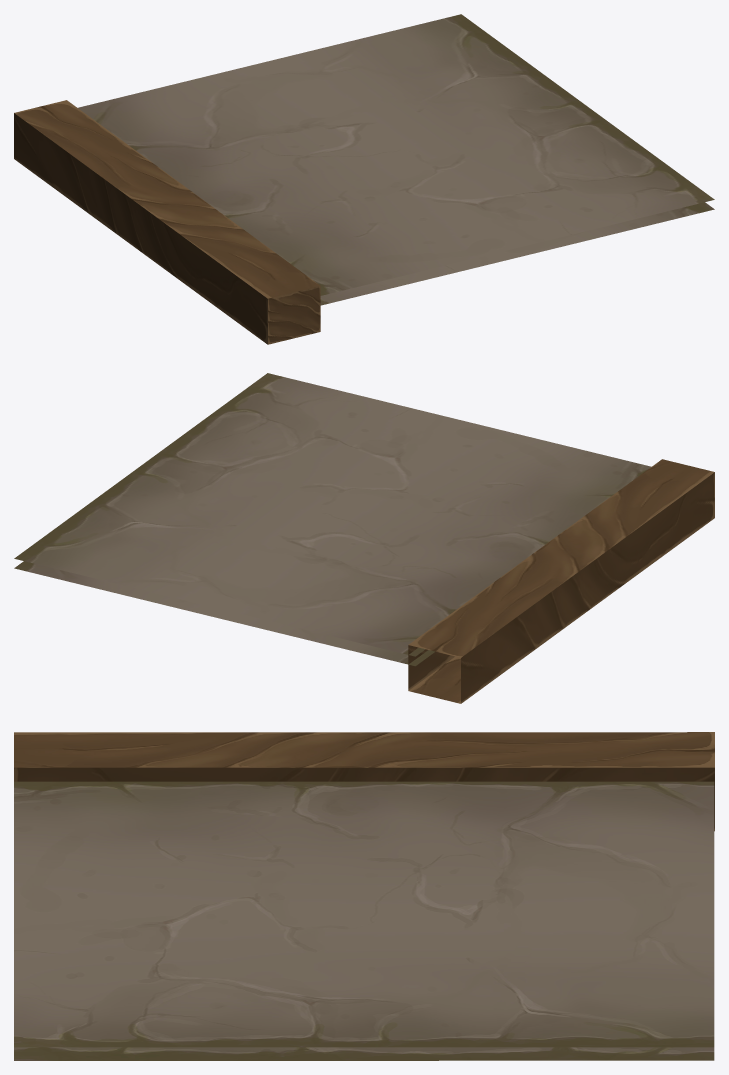
File: Ceiling_1_2.FBX
3 views of the same model, one above another, from view 1: azimuth 30°, elevation 25°; view 2: azimuth 150°, elevation 25°; view 3: azimuth 270°, elevation 25° (orthographic). The views are drawn at different scales.
Parts seen in each view (by area): view 1: Ceiling_1_2; view 2: Ceiling_1_2; view 3: Ceiling_1_2.
Part boxes in pixels (x1,y1,x2,y2): Ceiling_1_2: (14,14,714,344); Ceiling_1_2: (14,373,714,703); Ceiling_1_2: (14,732,714,1060).
Size of what is drawn, in the model's own units: 203 by 200 by 20.
